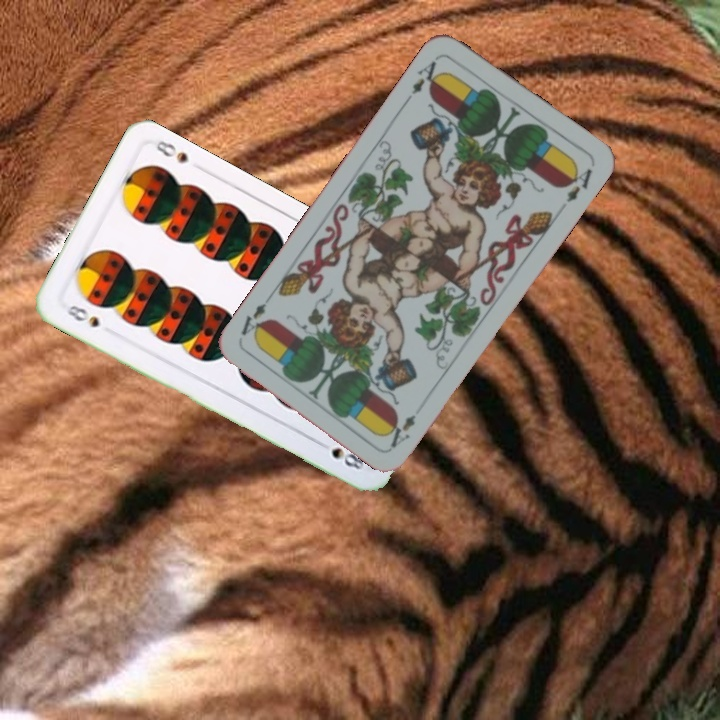EA: (401, 54, 446, 105), (385, 410, 419, 451)
S8: (58, 298, 102, 331)
